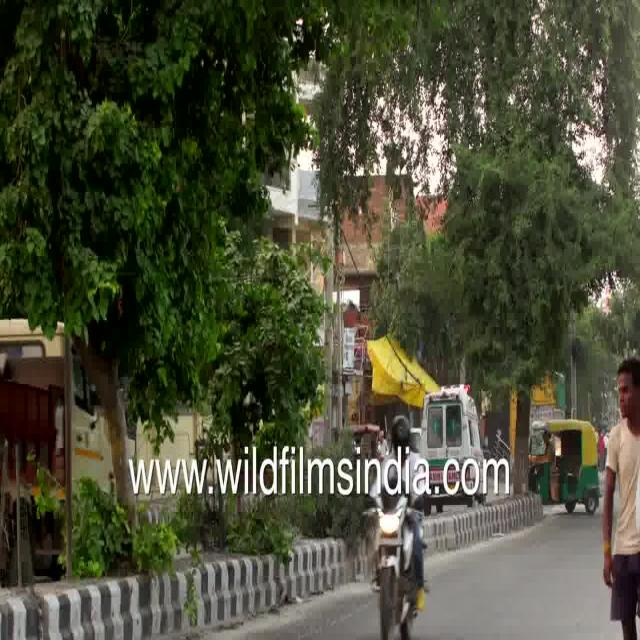ambulance: (422, 382, 487, 458)
